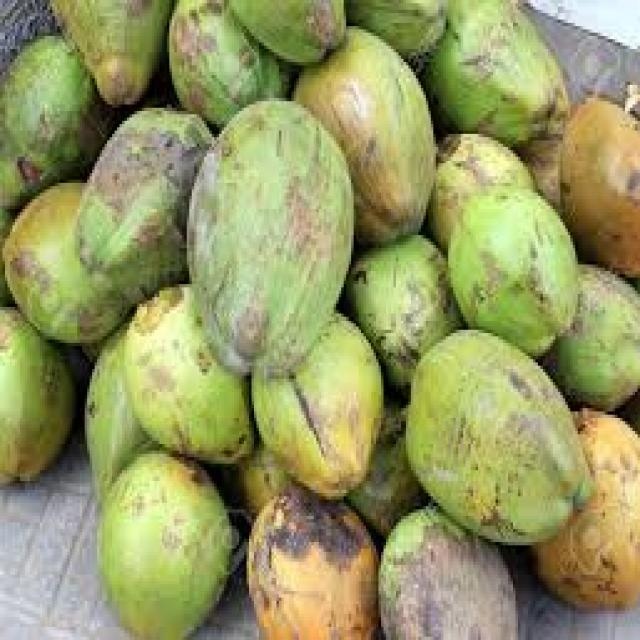coconut: (188, 100, 356, 368), (410, 334, 588, 542), (101, 456, 228, 640), (74, 101, 186, 287), (345, 27, 436, 238), (449, 190, 582, 334), (242, 361, 384, 495), (123, 293, 228, 458)
